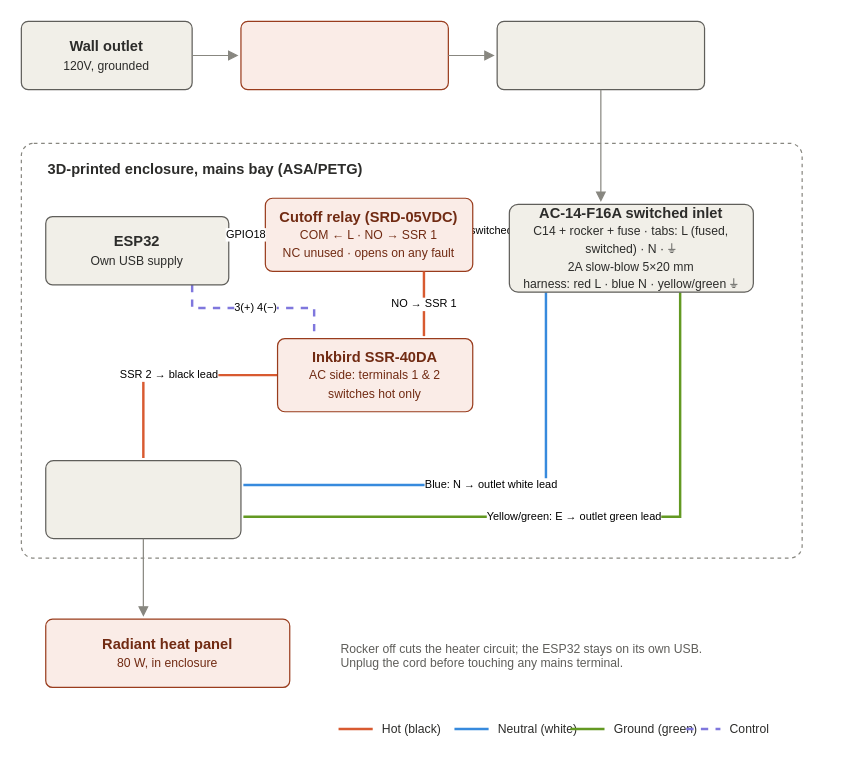
Some shapes in this 859 by 761 pixel diagram are drawn without their labels. The shapes that lost their labels are listed below. From the top down, each one's box as (x1, y1, x2, y2) in pixels, then its label:
(240, 20, 448, 90): Optional: ZEN04 / ITC-308 Independent upstream failsafe
(496, 20, 705, 90): C13 power cord 3-prong, 18 AWG
(45, 459, 241, 539): 5-15R snap-in outlet Black hot · White neutral Green = ground
